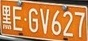E: (13, 6, 22, 31)
